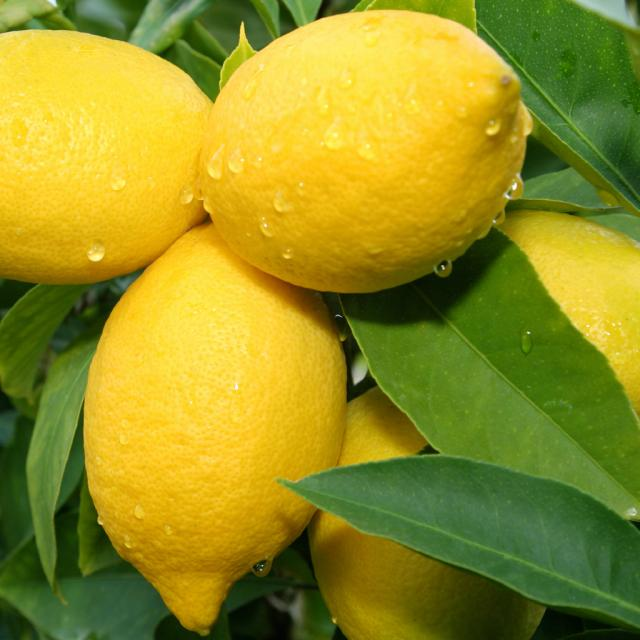lemon: (57, 187, 376, 640), (184, 2, 550, 338), (0, 0, 215, 298)
